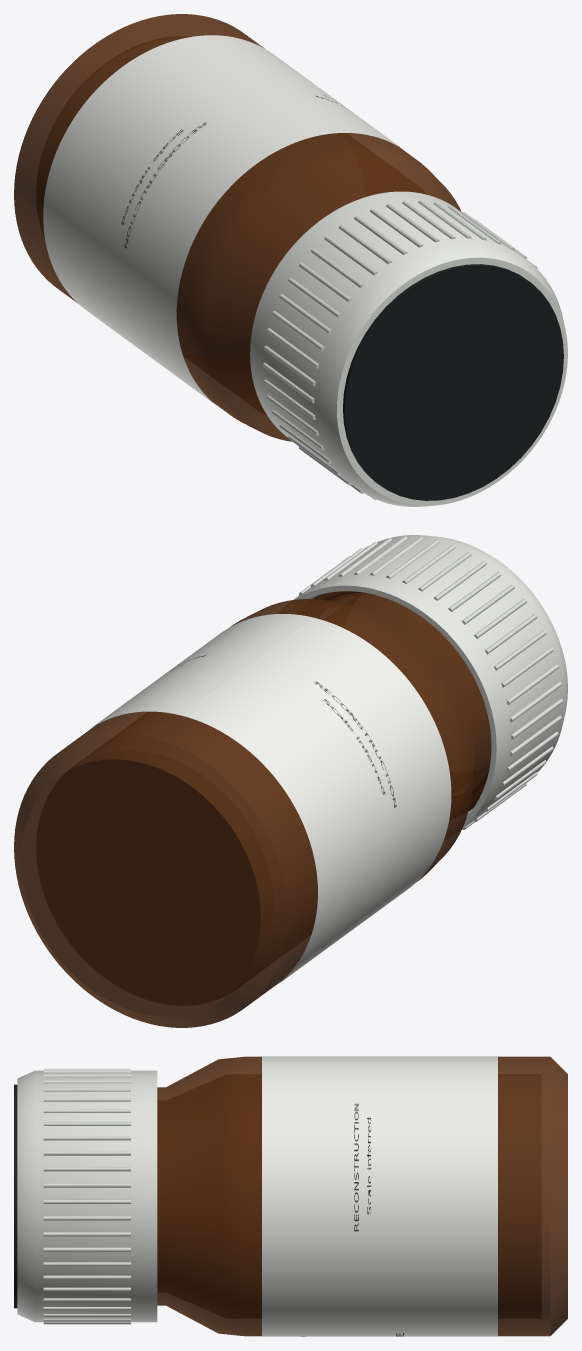
The model's file is supply_pelco_16032.glb.
3 renders of one model, top to bottom at view 1: azimuth 30°, elevation 25°; view 2: azimuth 150°, elevation 25°; view 3: azimuth 270°, elevation 25°, orthographic. The views are drawn at different scales.
Parts seen in each view (by area): view 1: bottle_identification_text, amber_bottle_open_mouth, cap_black_top, cap_white_hollow_shell; view 2: amber_bottle_open_mouth, bottle_identification_text, cap_white_hollow_shell; view 3: bottle_identification_text, amber_bottle_open_mouth, cap_white_hollow_shell, cap_black_top, cap_grip_rib_1, cap_grip_rib_2, cap_grip_rib_4, cap_grip_rib_6, cap_grip_rib_0, cap_grip_rib_3, cap_grip_rib_5, cap_grip_rib_7 (+3 smaller).
Part boxes in pixels (x1,y1,x2,y2): bottle_identification_text: (43,35,403,404); amber_bottle_open_mouth: (14,14,461,441); cap_black_top: (343,264,563,500); cap_white_hollow_shell: (250,191,567,506); amber_bottle_open_mouth: (14,592,491,1027); bottle_identification_text: (92,614,451,983); cap_white_hollow_shell: (294,535,567,828); bottle_identification_text: (262,1056,497,1336); amber_bottle_open_mouth: (157,1056,567,1336); cap_white_hollow_shell: (17,1070,157,1322); cap_black_top: (14,1084,17,1308); cap_grip_rib_1: (43,1232,130,1236); cap_grip_rib_2: (43,1216,130,1220); cap_grip_rib_4: (43,1183,130,1187); cap_grip_rib_6: (43,1151,130,1155); cap_grip_rib_0: (43,1247,130,1251); cap_grip_rib_3: (43,1199,130,1203); cap_grip_rib_5: (43,1167,130,1171); cap_grip_rib_7: (43,1136,130,1140).
Bounding box in the file's own units: 0.0321 × 0.0321 × 0.0634.
Materials: 8 (1 with a texture image).
